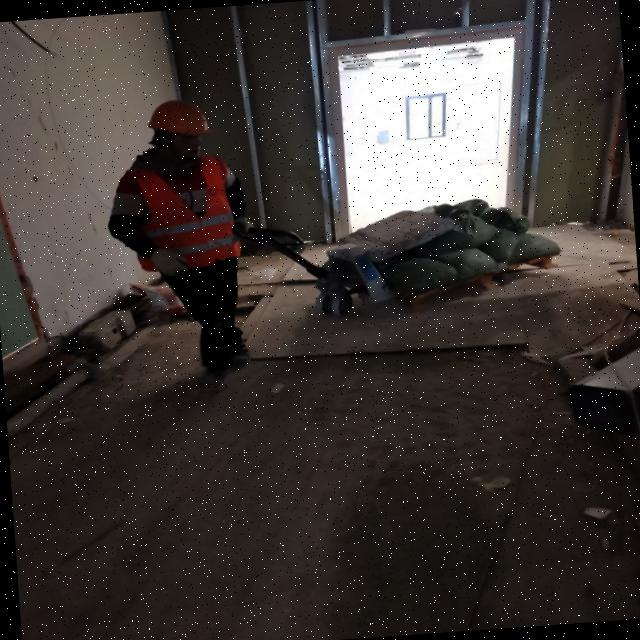Helmet: (142, 99, 216, 167)
